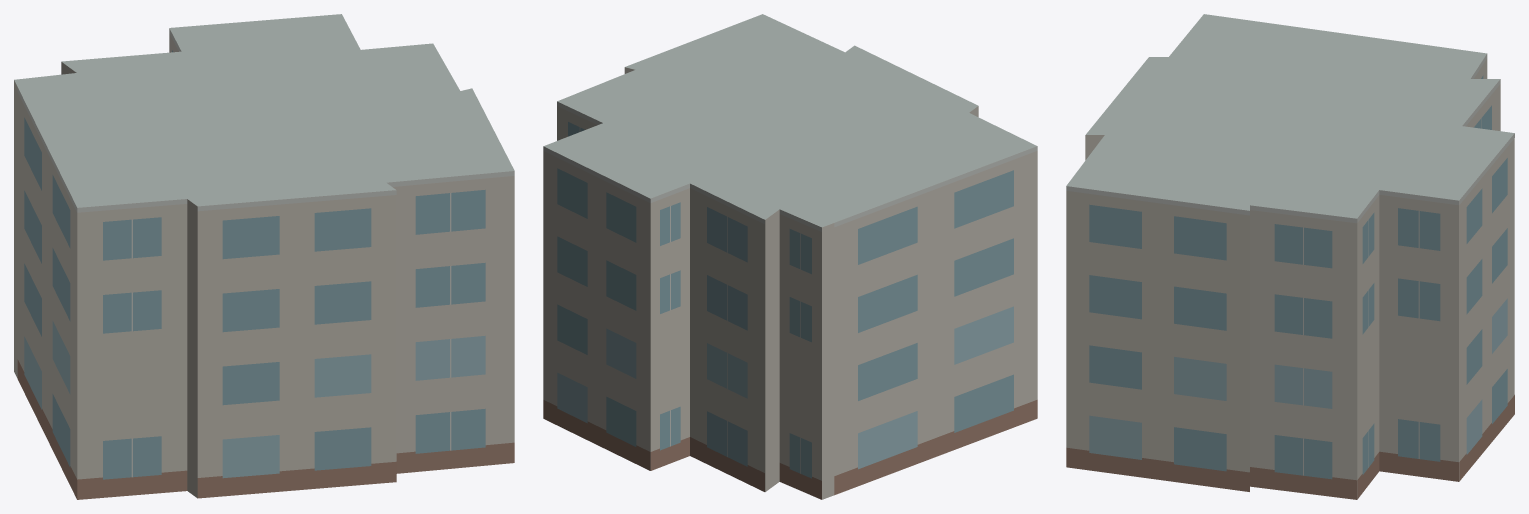
File: survey-upis-32484995.glb
3 views of the same model, side by side, from view 1: azimuth 30°, elevation 25°; view 2: azimuth 150°, elevation 25°; view 3: azimuth 270°, elevation 25° (orthographic). The views are drawn at different scales.
Parts seen in each view (by area): view 1: survey-upis-32484995.tmp; view 2: survey-upis-32484995.tmp; view 3: survey-upis-32484995.tmp.
Boxes of the visible parts, box(x1,y1,x2,y2) form: survey-upis-32484995.tmp: box(14, 14, 514, 499); survey-upis-32484995.tmp: box(543, 14, 1037, 499); survey-upis-32484995.tmp: box(1066, 14, 1514, 499).
Bounding box in the file's own units: 22.72 × 14.55 × 21.05.
